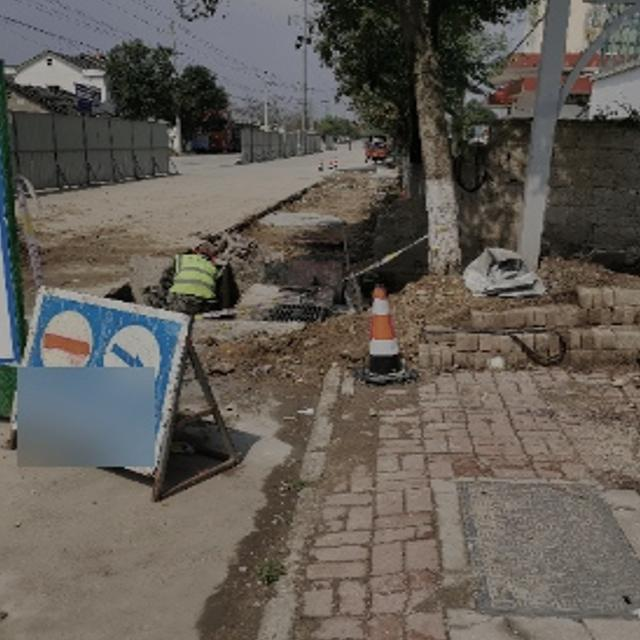good: (451, 473, 640, 624)
